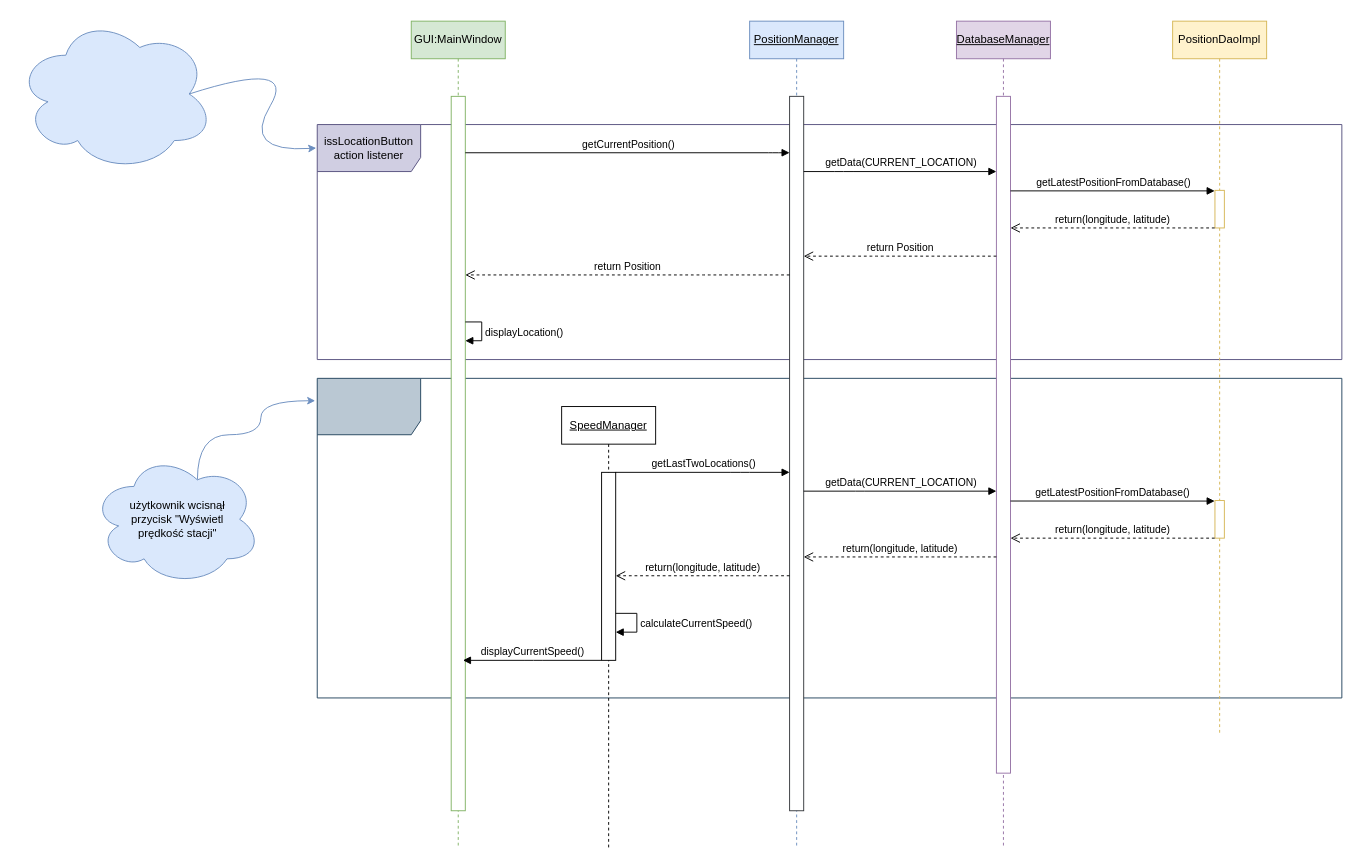
This 1358x865 diagram has some shape labels left out. Each missing label, with the box of its shape:
issSpeedButton action listener: (316, 377, 1342, 698)
użytkownik wcisnął przycisk "Pokaż lokację stacji": (16, 16, 214, 172)
